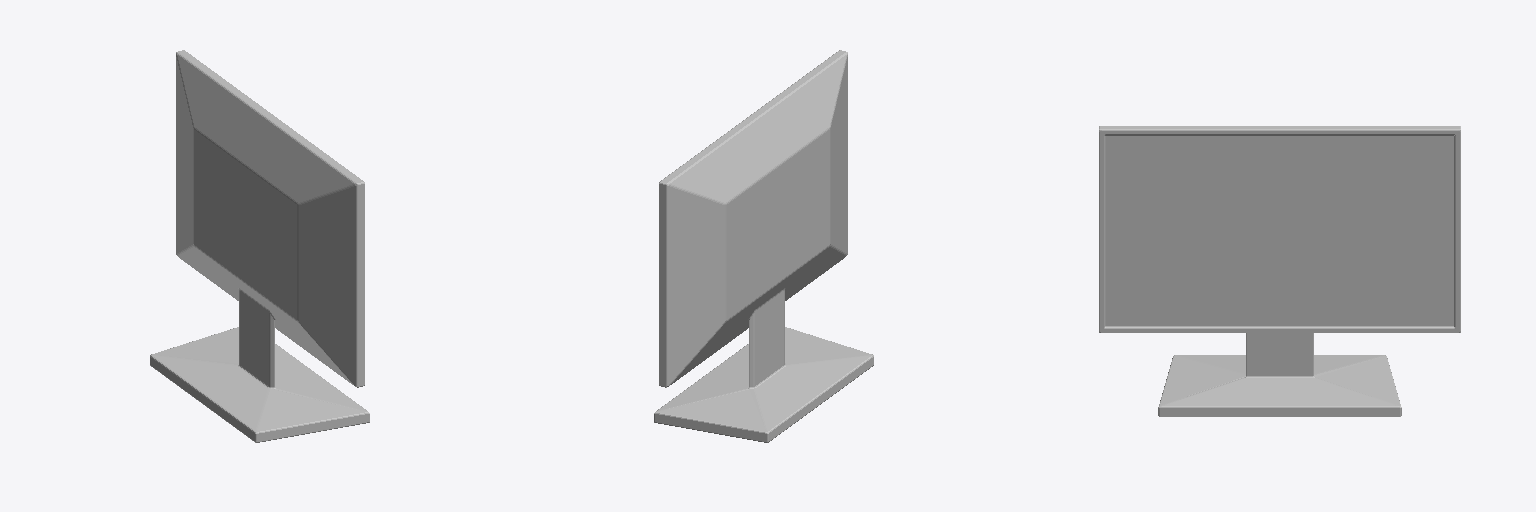
File: computer_monitor.obj
3 renders of one model, left to right at view 1: azimuth 30°, elevation 25°; view 2: azimuth 150°, elevation 25°; view 3: azimuth 270°, elevation 25°, orthographic.
Parts seen in each view (by area): view 1: Cube; view 2: Cube; view 3: Cube.
Boxes of the visible parts, x1,y1,x2,y2 form: Cube: [150, 50, 369, 442]; Cube: [654, 50, 873, 442]; Cube: [1099, 126, 1460, 416].
Bounding box in the file's own units: 4.85 × 11.78 × 14.27.